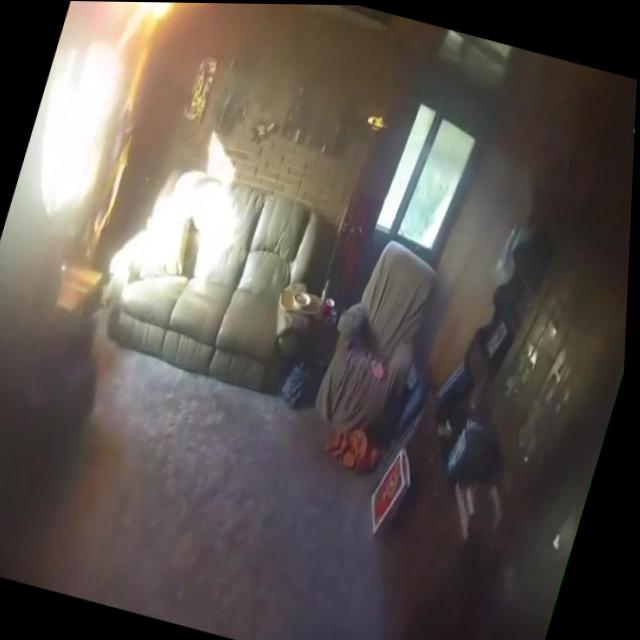fire: (76, 44, 164, 263), (84, 1, 222, 46)
